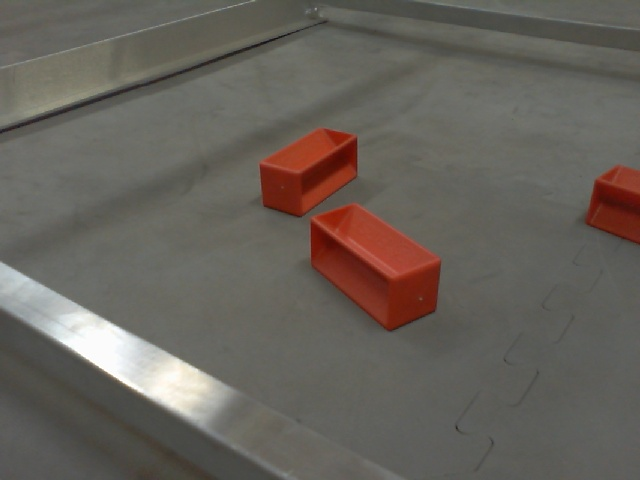RedSample: (306, 202, 443, 331), (258, 123, 359, 216), (585, 164, 640, 244)
